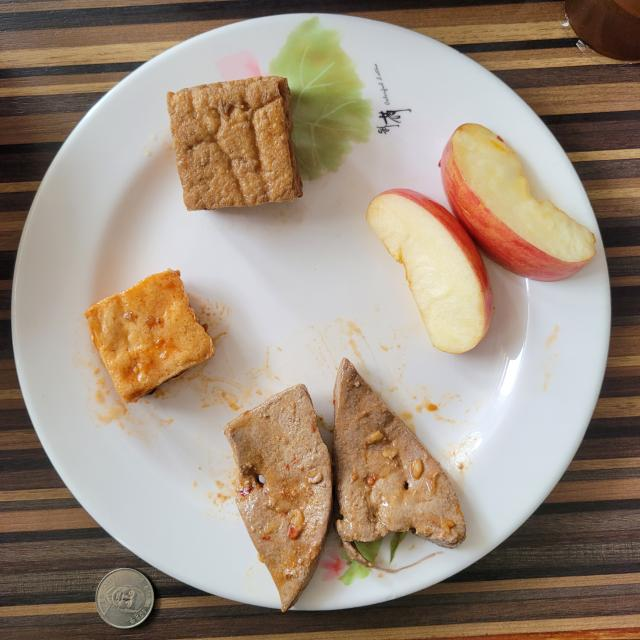apple -sliced-: (368, 124, 595, 354)
coin: (95, 569, 154, 629)
creamy tofu: (85, 270, 215, 402)
egg tofu: (168, 76, 302, 210)
pig liver: (224, 359, 466, 611)
